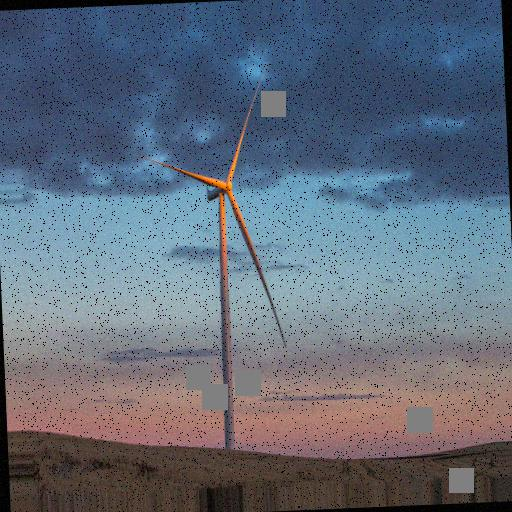wind turbine: (147, 77, 289, 450)
